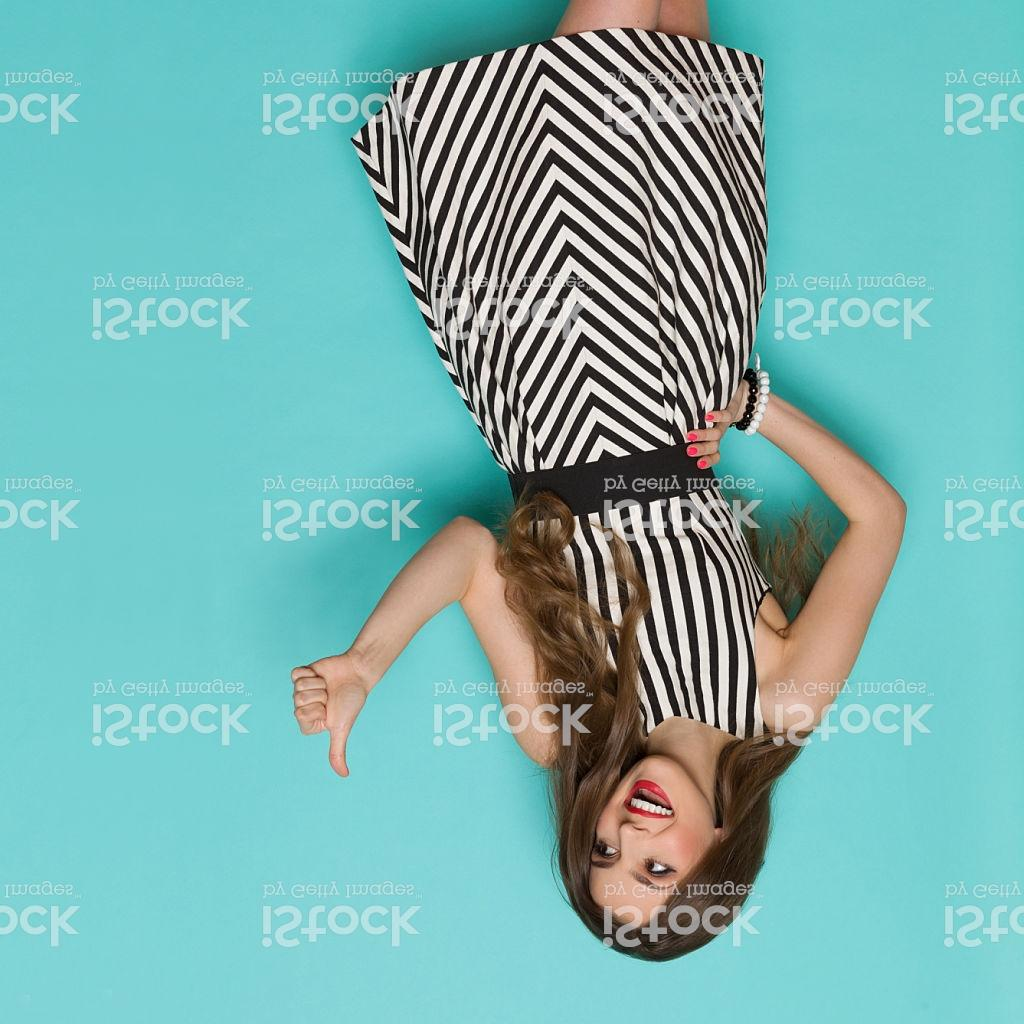thumbsdown: (289, 650, 368, 780)
